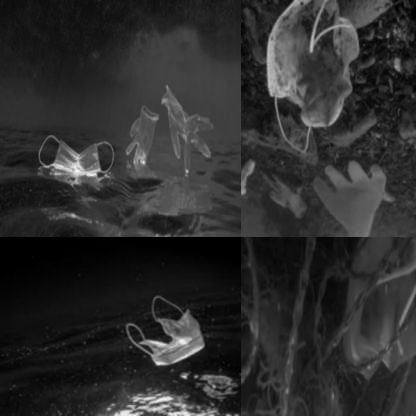Mask: (261, 1, 363, 155), (334, 237, 416, 412), (124, 290, 210, 378), (29, 120, 124, 189)
glove: (315, 155, 395, 235), (160, 77, 216, 176), (124, 103, 162, 180), (261, 166, 313, 217), (241, 154, 257, 206)
